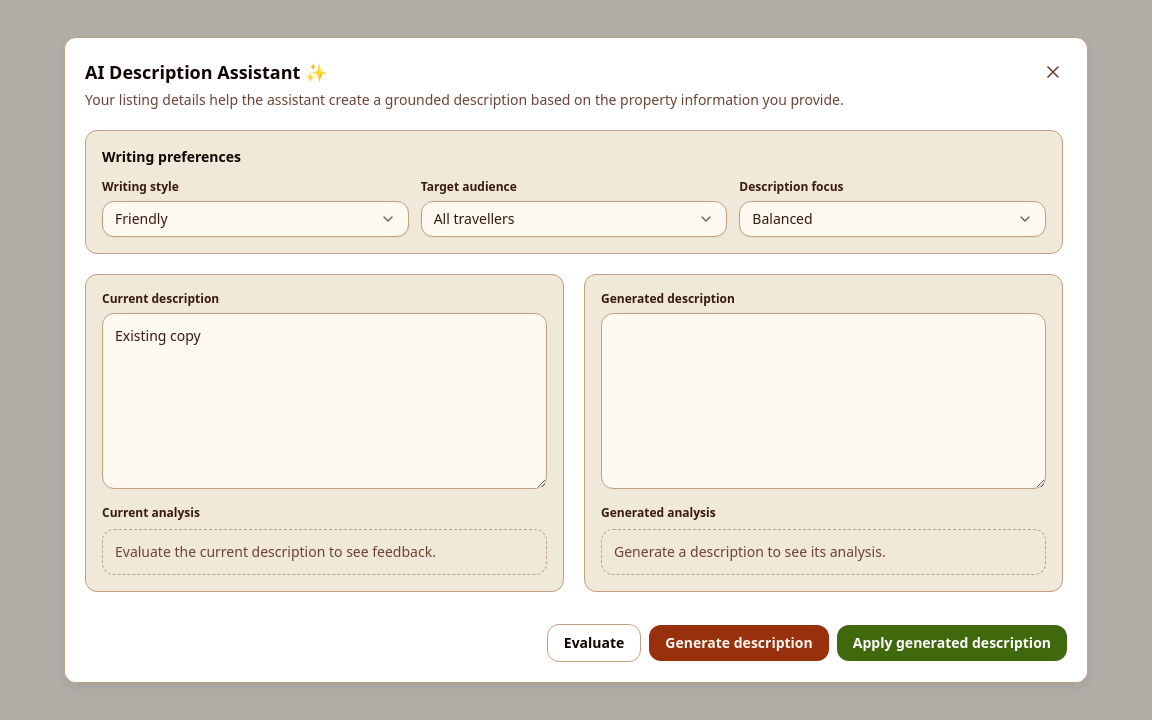
HostAiDescriptionAssistant › keeps matching descriptions and analyses in source/output order
This screenshot has width=1152, height=720.
Click the button "Generate description" at (739, 643), box 649,625 -> 829,661
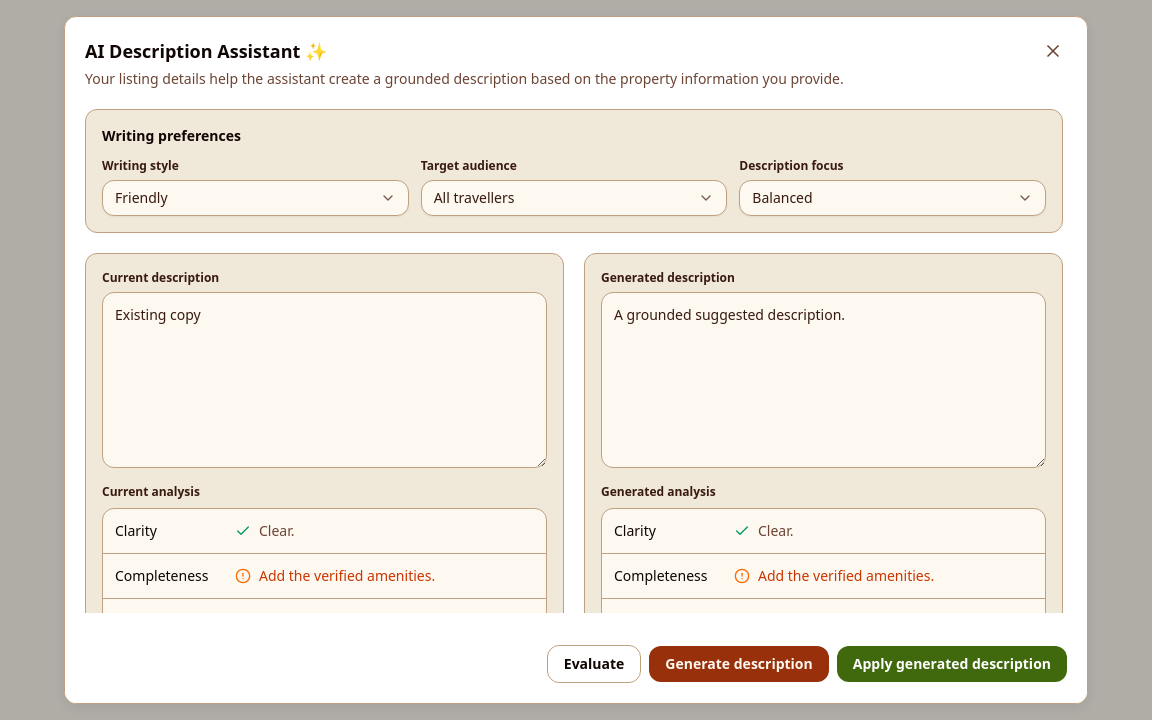
Expected: the text box labelled "Generated description" holds "A grounded suggested description.", 601,292 -> 1046,468
